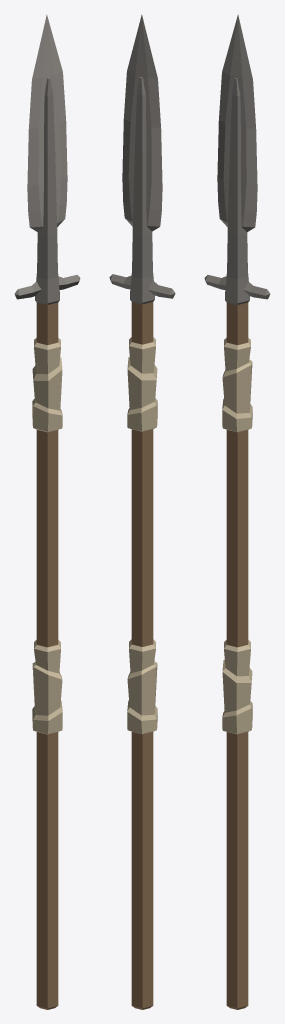
Rendered from SM_pwe_medieval_spear_04a.fbx.
The picture shows the model from 3 angles, left to right: view 1: azimuth 30°, elevation 25°; view 2: azimuth 150°, elevation 25°; view 3: azimuth 330°, elevation 25°; orthographic projection.
Visible parts, largest first — view 1: SM_pwe_medieval_spear_04a; view 2: SM_pwe_medieval_spear_04a; view 3: SM_pwe_medieval_spear_04a.
Boxes of the visible parts, x1,y1,x2,y2 form: SM_pwe_medieval_spear_04a: (14,14,80,1009); SM_pwe_medieval_spear_04a: (109,14,175,1009); SM_pwe_medieval_spear_04a: (204,14,270,1009).
Size of the model in its own units: 13.79 by 198 by 5.9.
